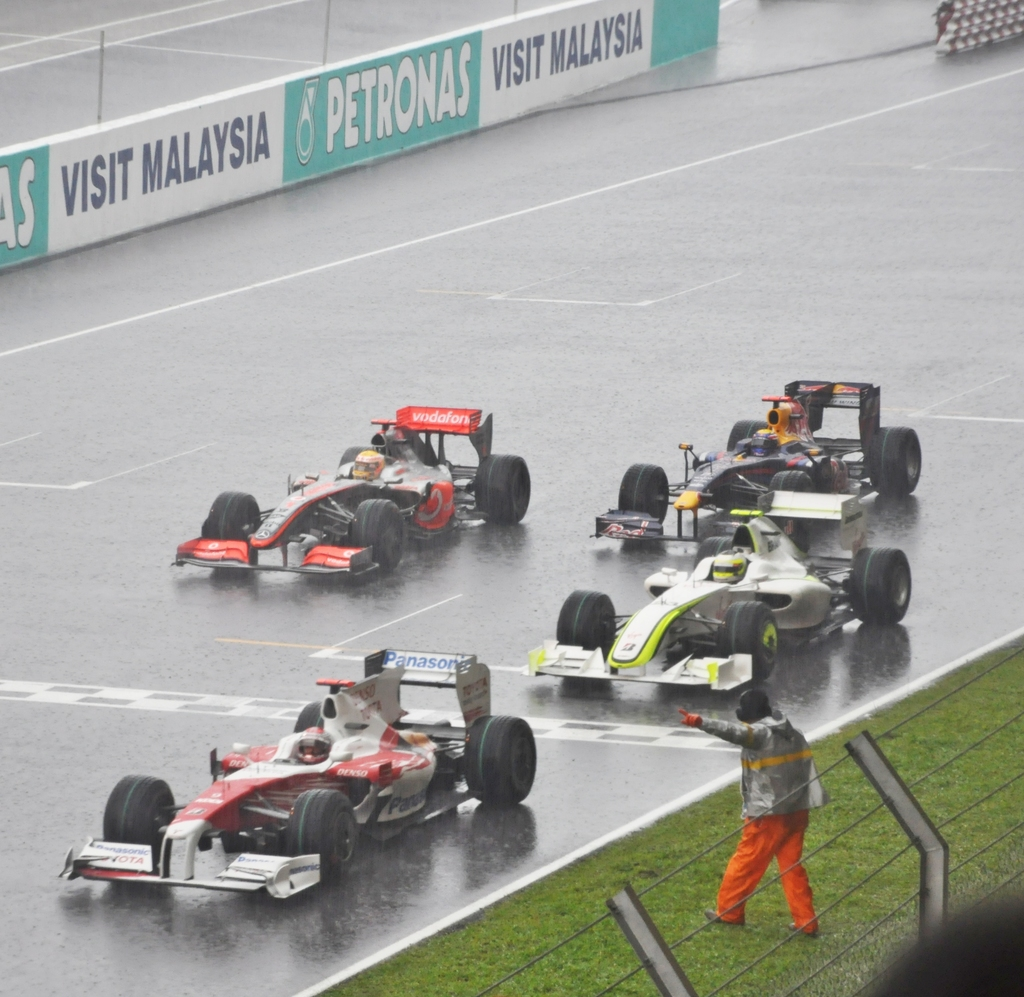Person: (678, 688, 828, 934), (291, 728, 330, 766)
